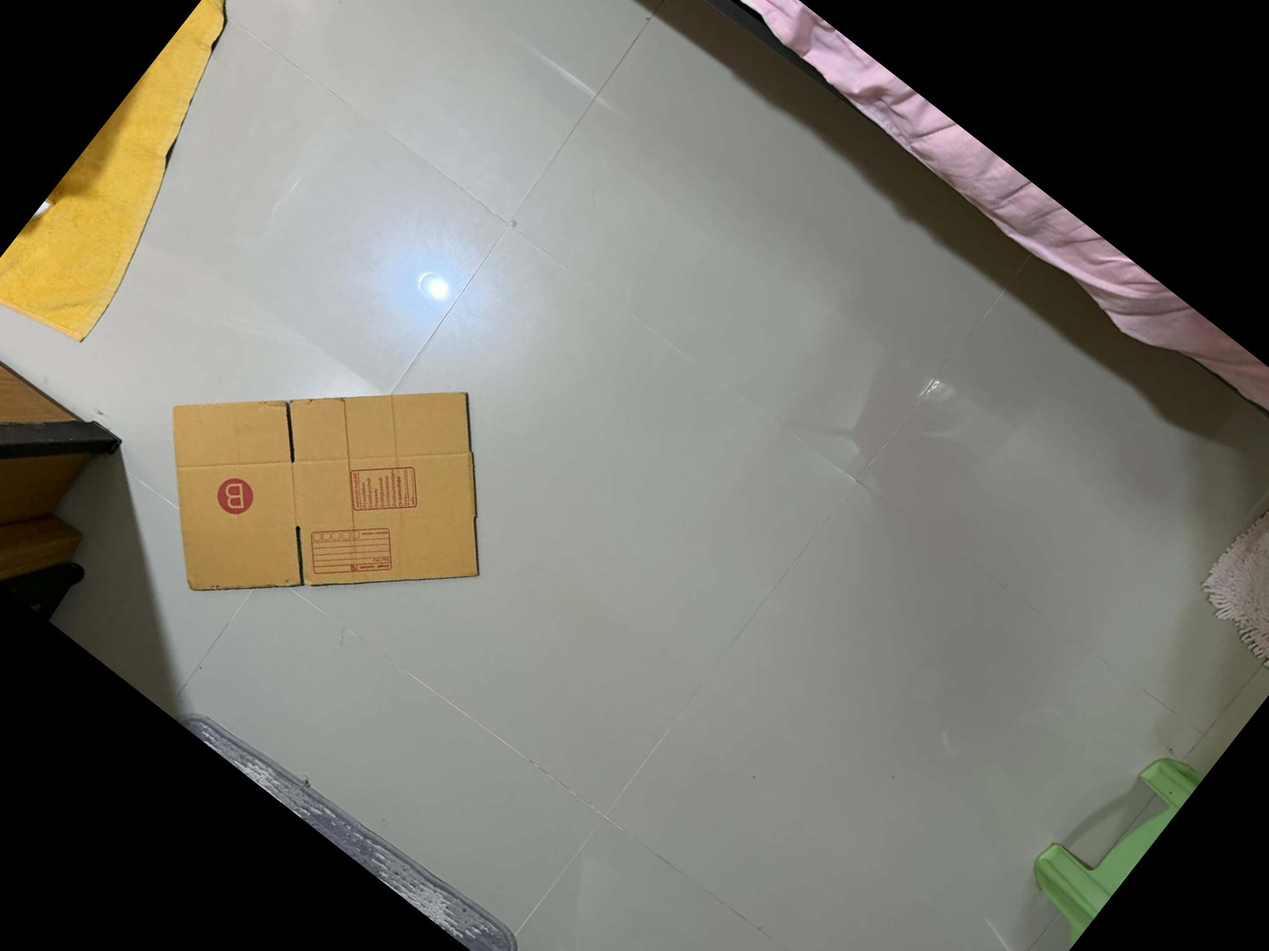box: (292, 495, 407, 607), (333, 436, 434, 535), (204, 465, 270, 532)
class0: (77, 243, 577, 739)
